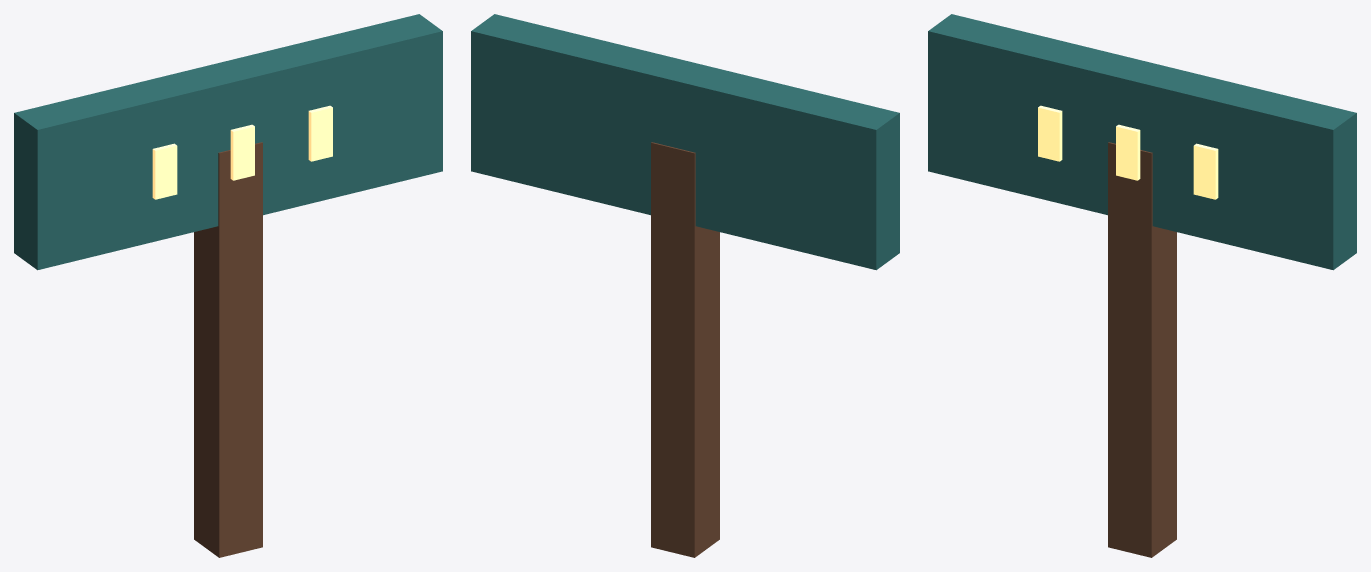
Rendered from signpost.glb.
The picture shows the model from 3 angles, left to right: view 1: azimuth 30°, elevation 25°; view 2: azimuth 150°, elevation 25°; view 3: azimuth 330°, elevation 25°; orthographic projection.
Parts seen in each view (by area): view 1: signpost; view 2: signpost; view 3: signpost.
Part boxes in pixels (box(x1,y1,x2,y2)): signpost: box(14, 14, 442, 557); signpost: box(471, 14, 899, 557); signpost: box(928, 14, 1356, 557).
Size of the model in its own units: 1.3 by 1.45 by 0.1575.
